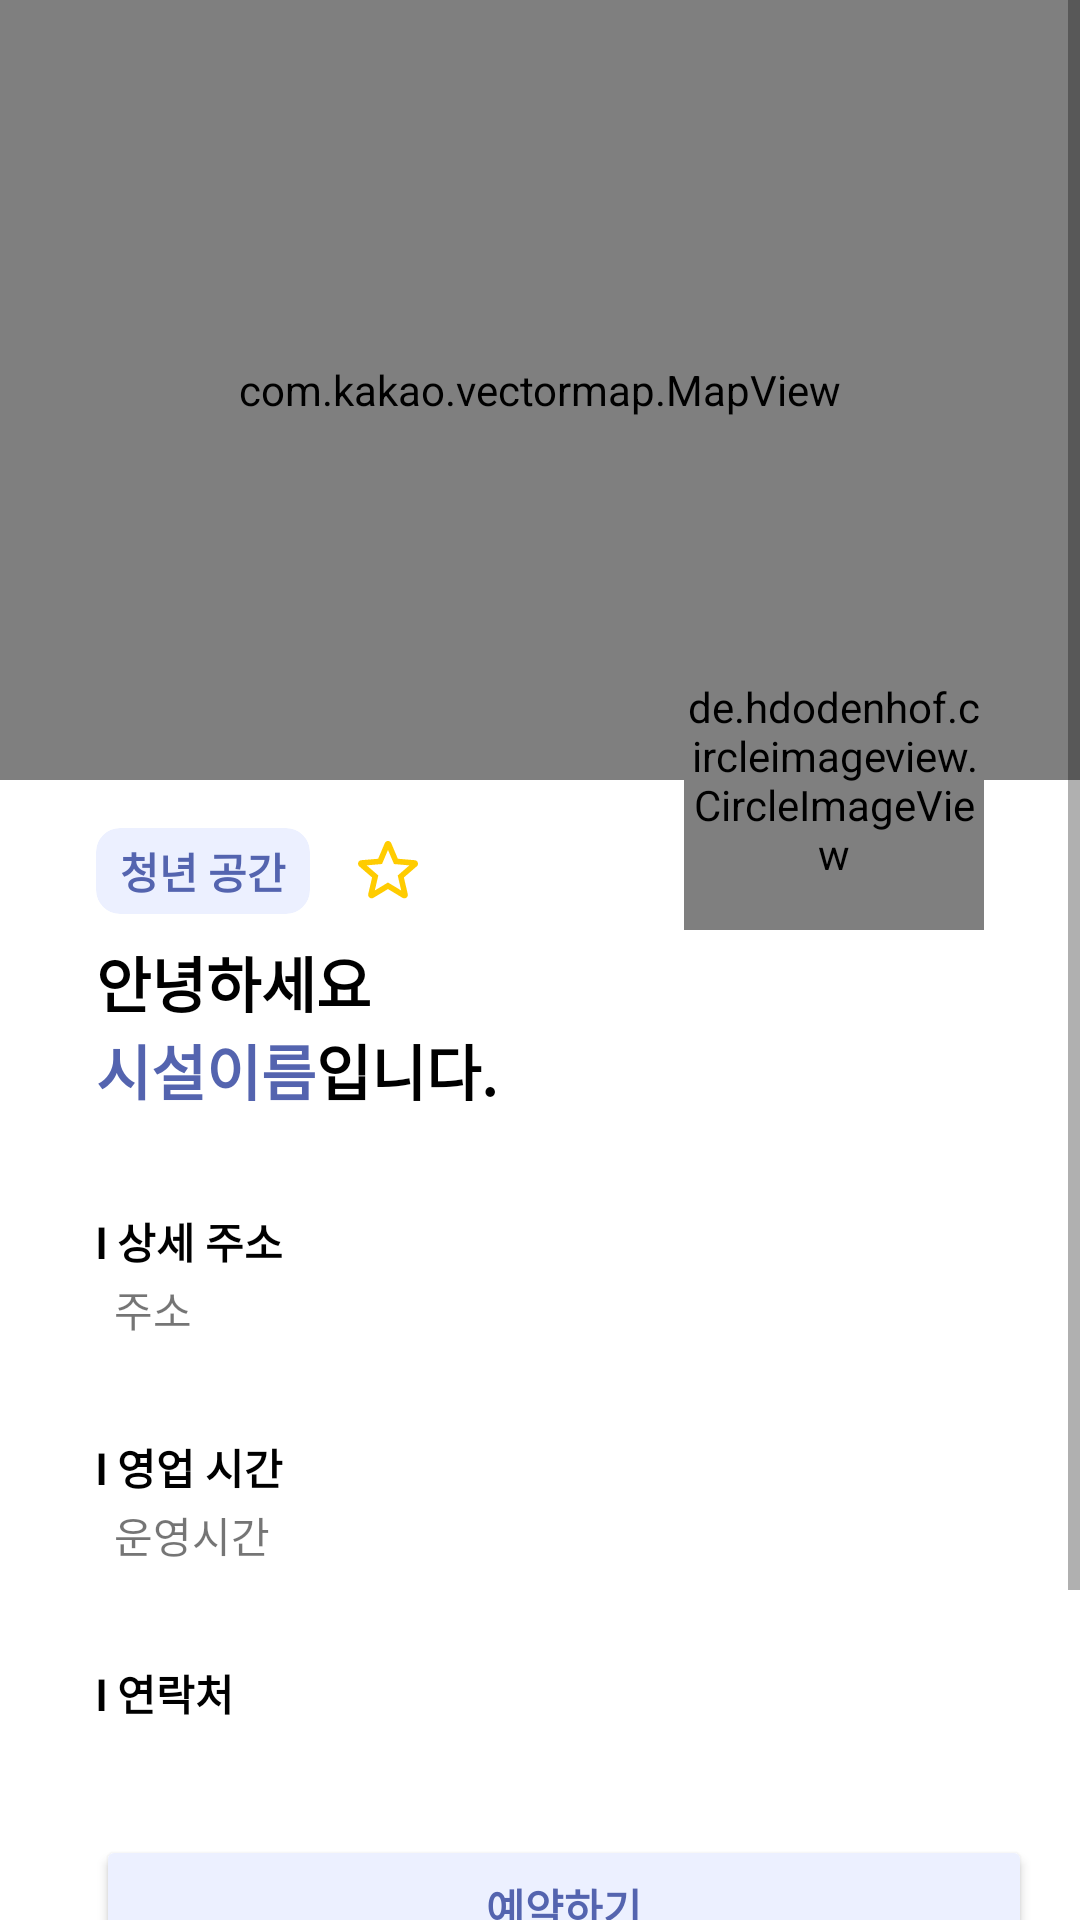

Named icons in this screenshot (1080px×1920px) and their centers, (x=x, y=y):
unfavorite: (x=388, y=870)
